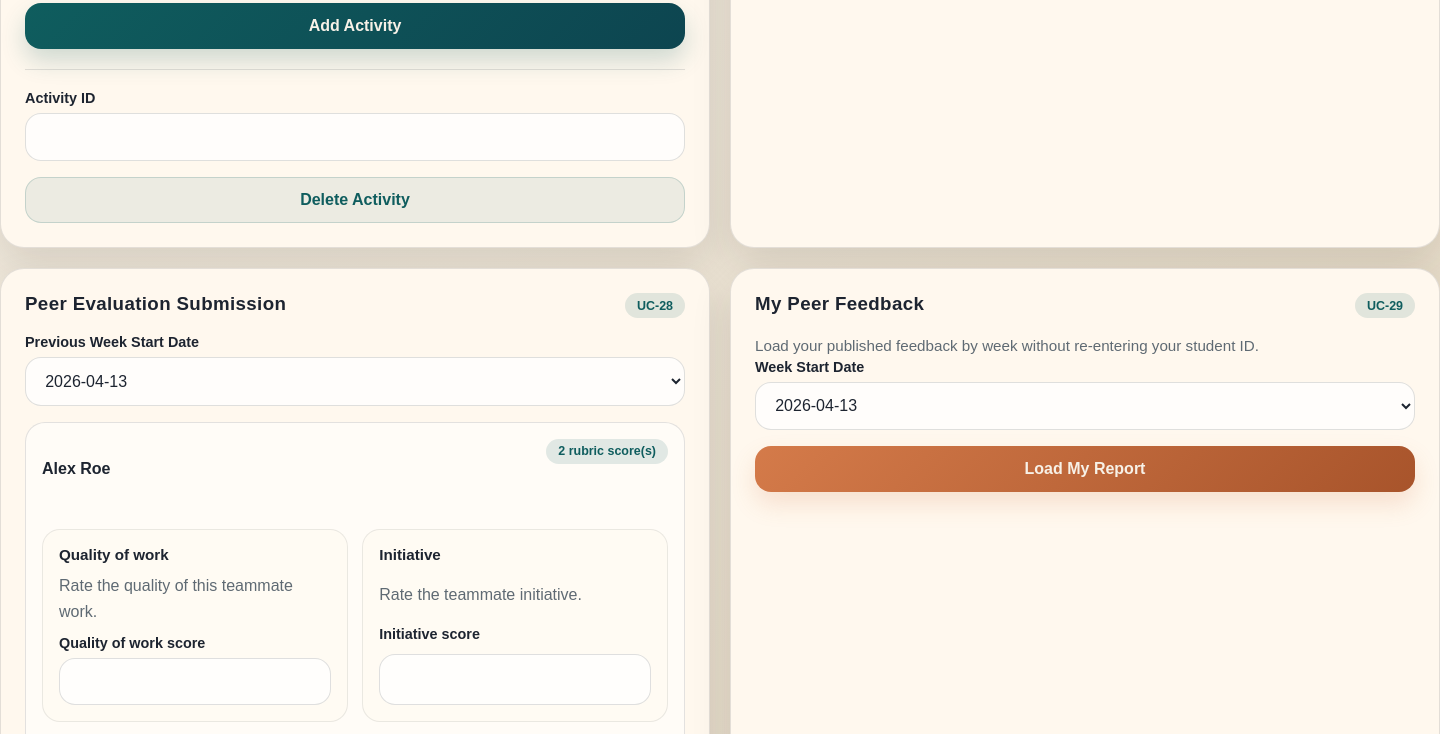
StudentWorkspace › renders the signed-in student self peer report after loading it
(page scrolled)
expect the label "Week Start Date" is shown: met, box [755,358,1415,430]
Select "2026-04-20" in the dropdown labelled "Week Start Date" at (1085, 406), box [755,382,1415,430]
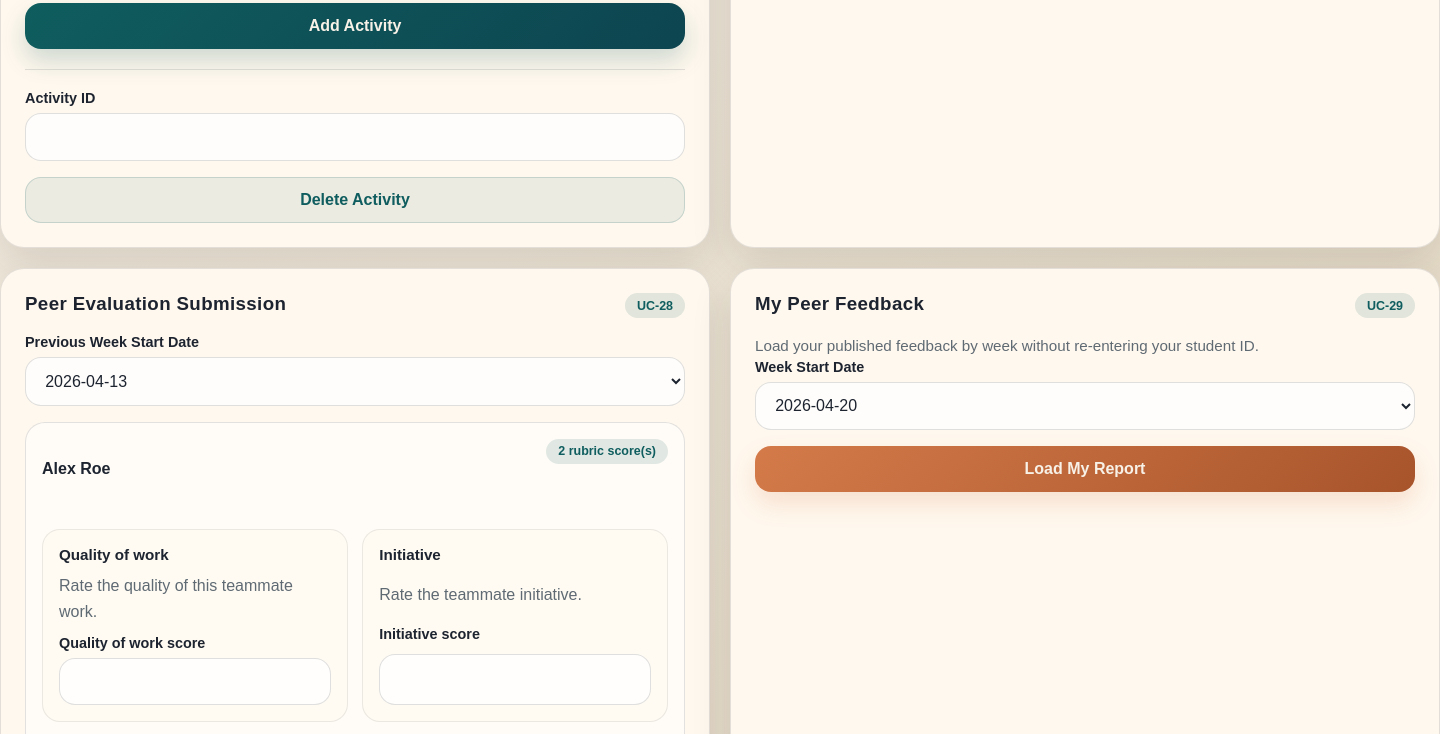
Submit the form "Week Start Date Load My Report", box [755,358,1415,492]
(page scrolled)
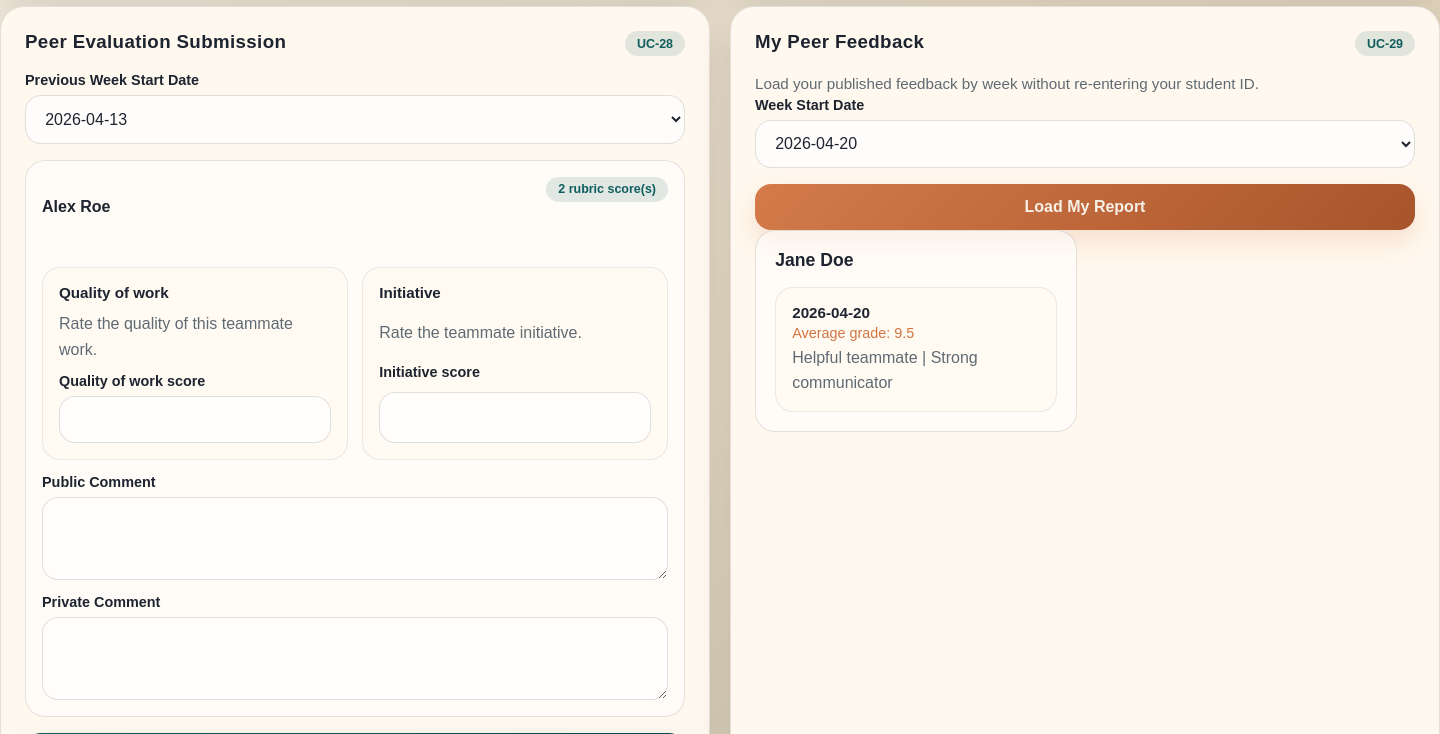
expect the element that starts with "UC-29" shows "Average grade: 9.5": met, box [792,325,914,341]
expect the element that starts with "UC-29" shows "Helpful teammate | Strong communicator": met, box [792,349,978,391]
